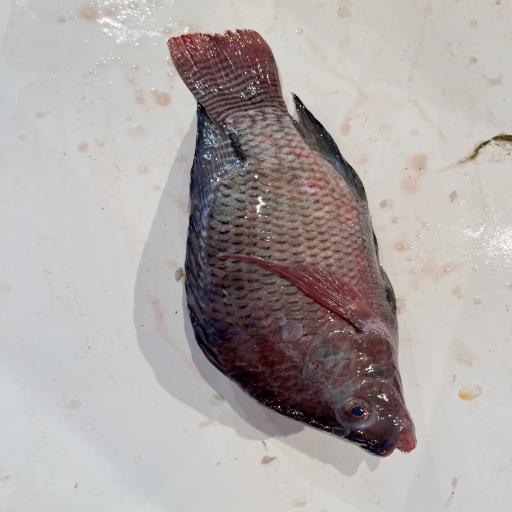Tilapia: (167, 29, 419, 459)
